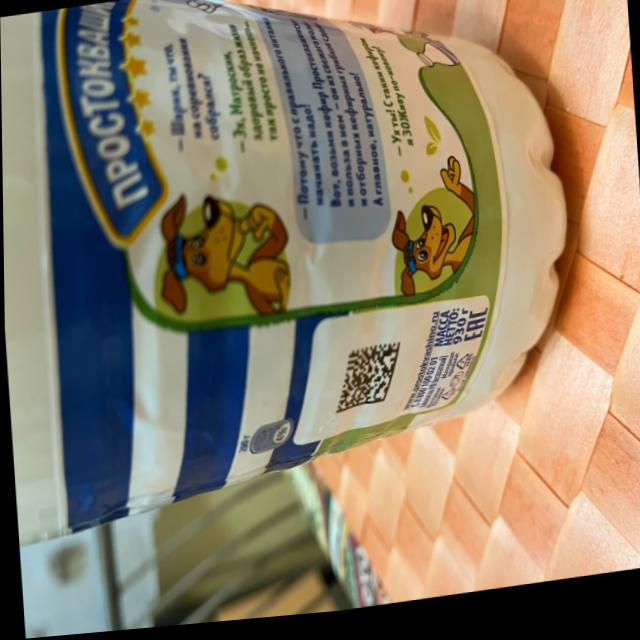datamatrix: (332, 349, 404, 420)
